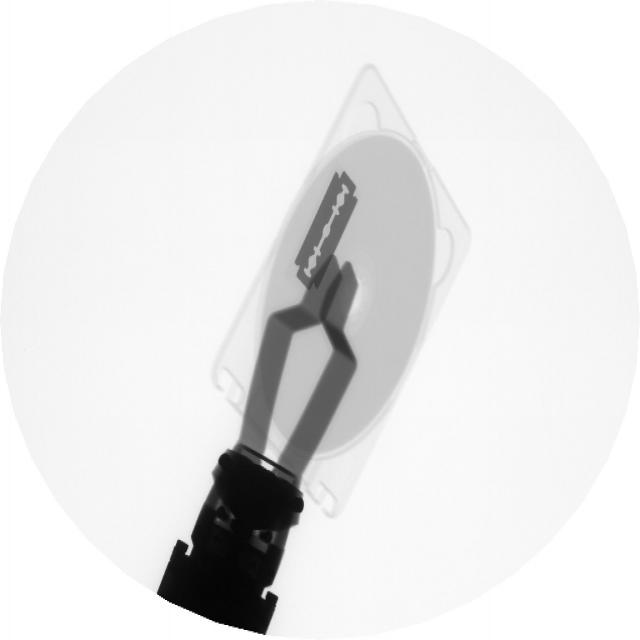BLADE: (289, 163, 363, 293)
